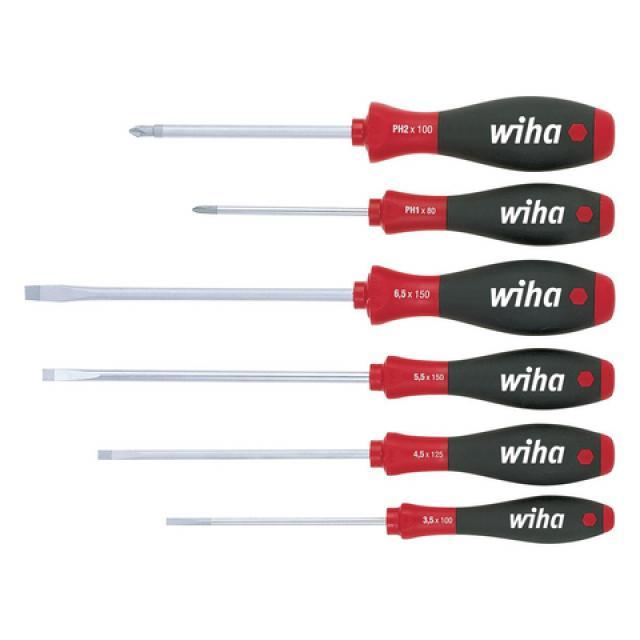screwdriver: (21, 258, 618, 341), (35, 341, 618, 416), (103, 92, 618, 176), (182, 176, 620, 258), (93, 418, 620, 486), (160, 486, 619, 554)
